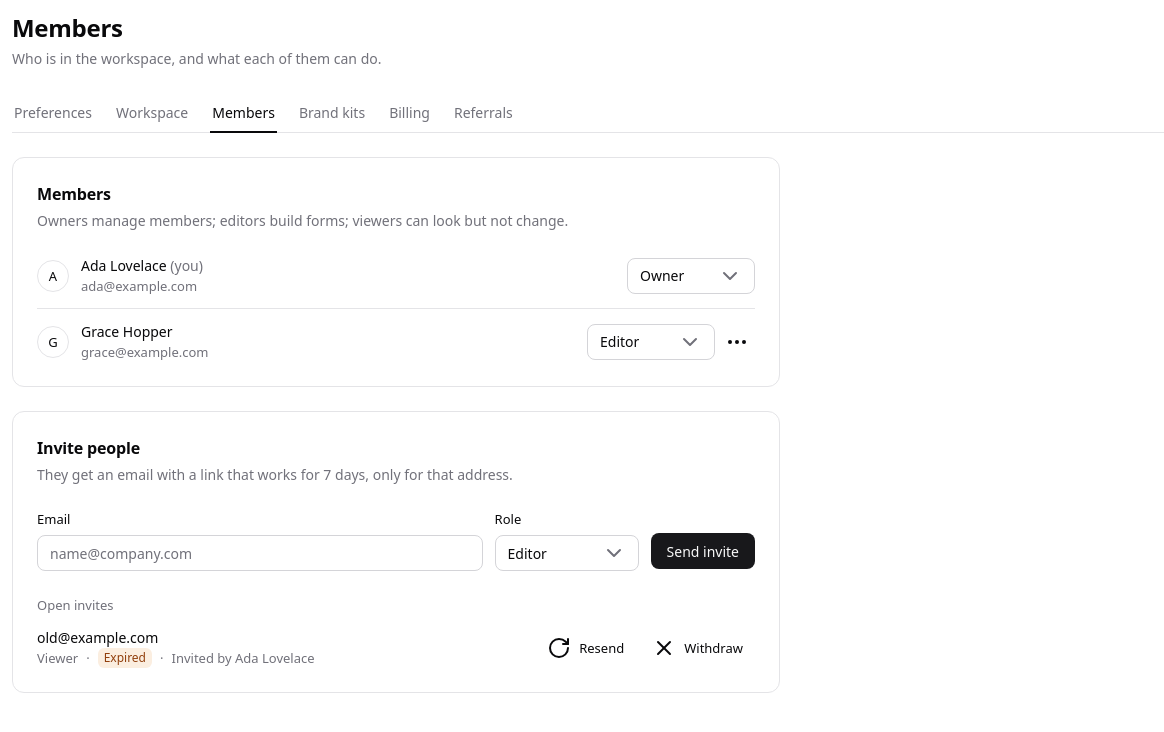
Test: MembersPage for owners › says when an invite email did not go out, and marks expired invites
Expected: the text "Expired" is shown, [98, 648, 152, 668]
Click the button with aria-label "Resend the invite to old@example.com" at (586, 648), box [535, 632, 636, 664]
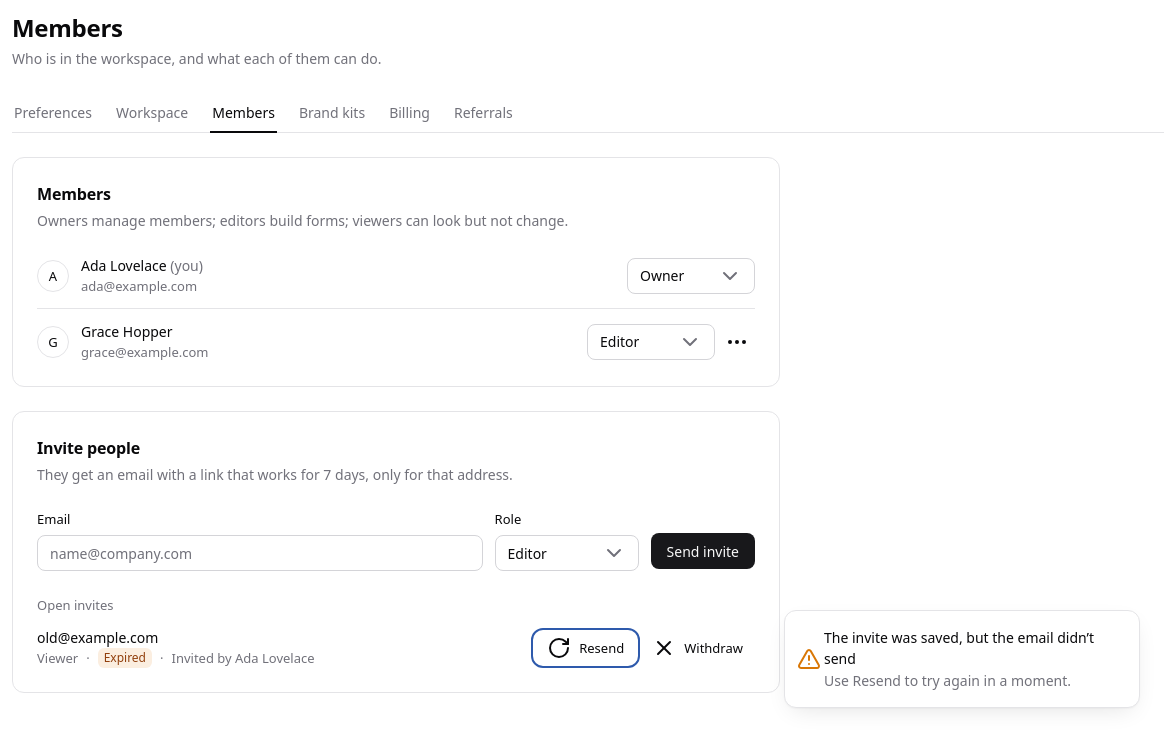
Result: the text "The invite was saved, but the email didn’t send" is shown at [824, 627, 1123, 669]
